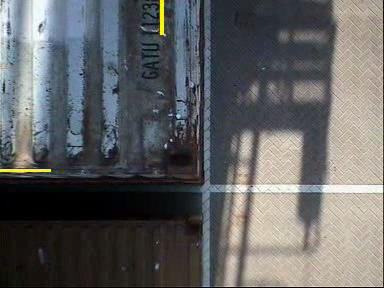groundmarker_2: (99, 74, 162, 113), (99, 217, 162, 256)
